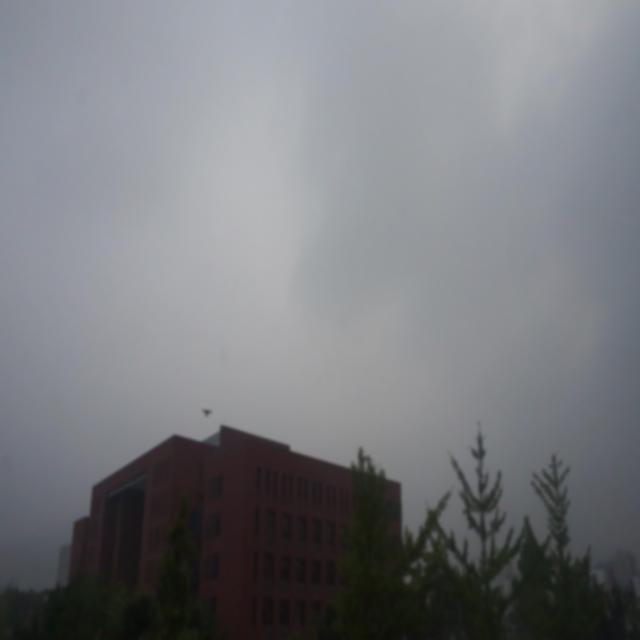UAV: (202, 408, 212, 417)
